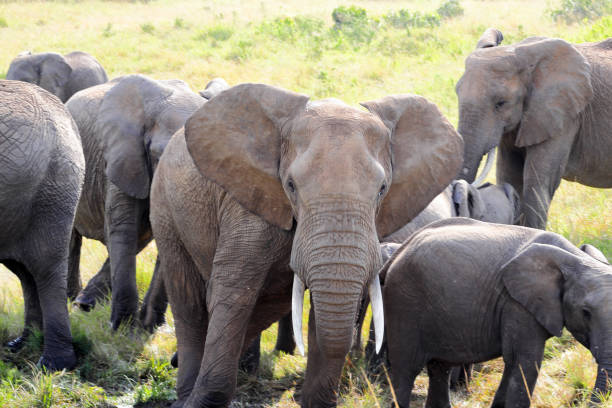africanelephant: (265, 100, 402, 354)
